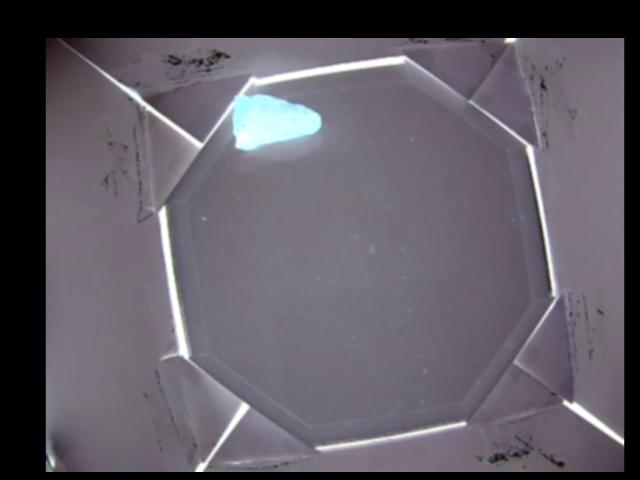Brisk: (231, 93, 321, 149)
